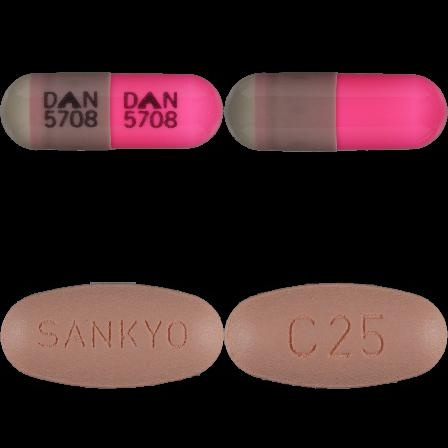55289-441: (0, 0, 224, 224)
